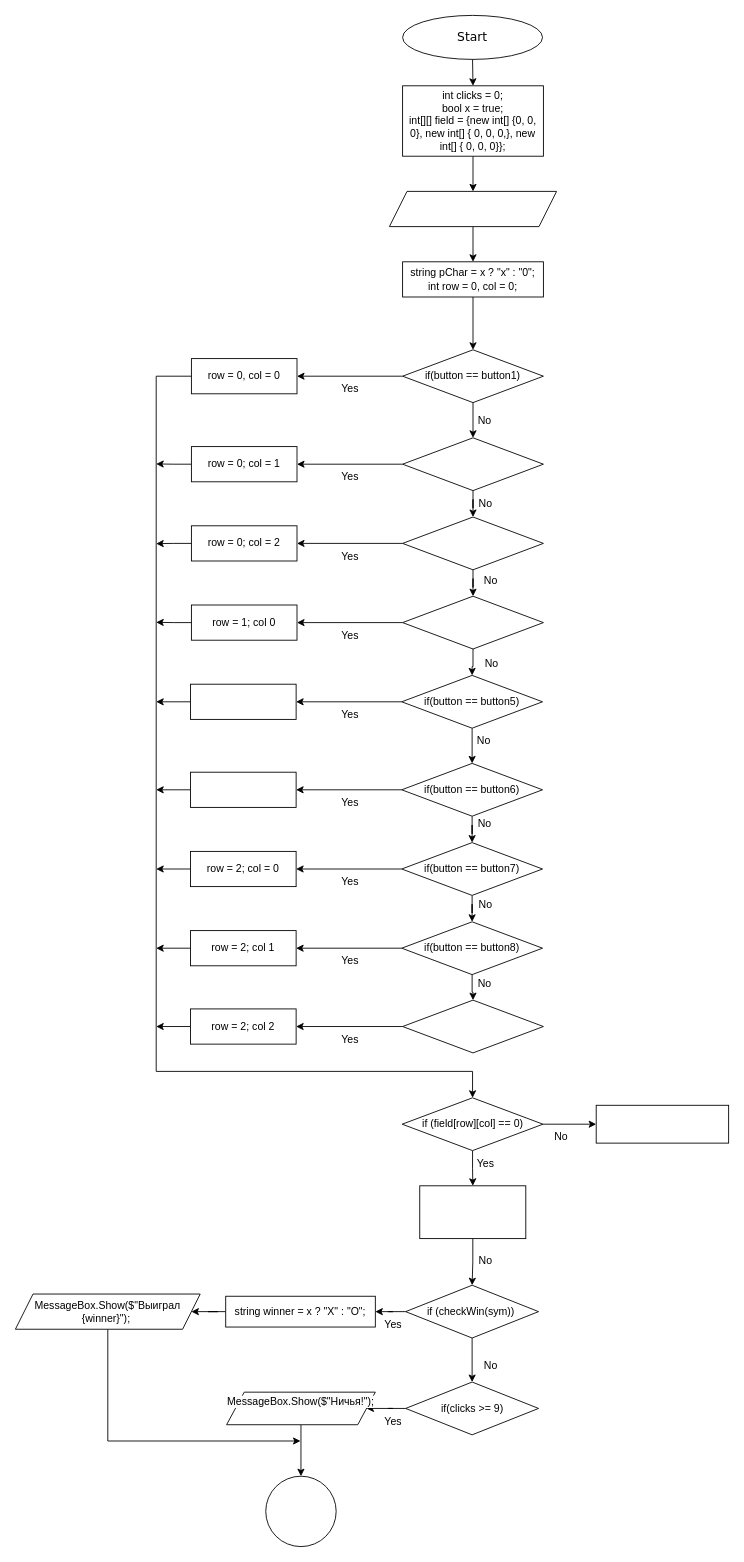
The diagram is 744 pixels wide and 1562 high, and some of its shapes have lost their labels. The shapes that lost their labels are listed below. From the top down, each one's centre as x and y in pixels, then its label:
(473,209): Button_click((object sender, EventArgs e)
(472,464): if(button == button2)
(472,543): if(button == button3)
(472,622): if(button == button4)
(243,701): row = 1, col = 1
(243,789): row = 1; col = 2
(472,1026): if(button == button9)
(662,1123): MessageBox.Show("Клетка занята!");
(472,1212): clicks++; int sym = x ? 1 : 2; field[row][col] = sym; button.Text = pChar;
(300,1511): this.Close();
